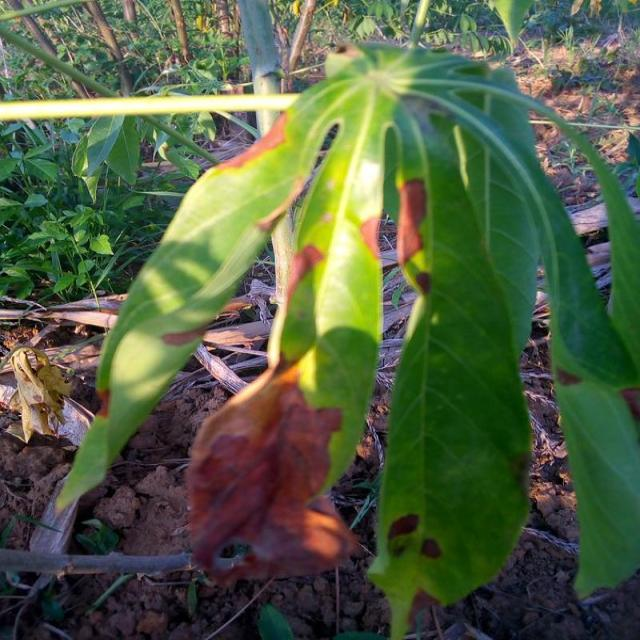cassava leaf: (45, 39, 637, 630)
